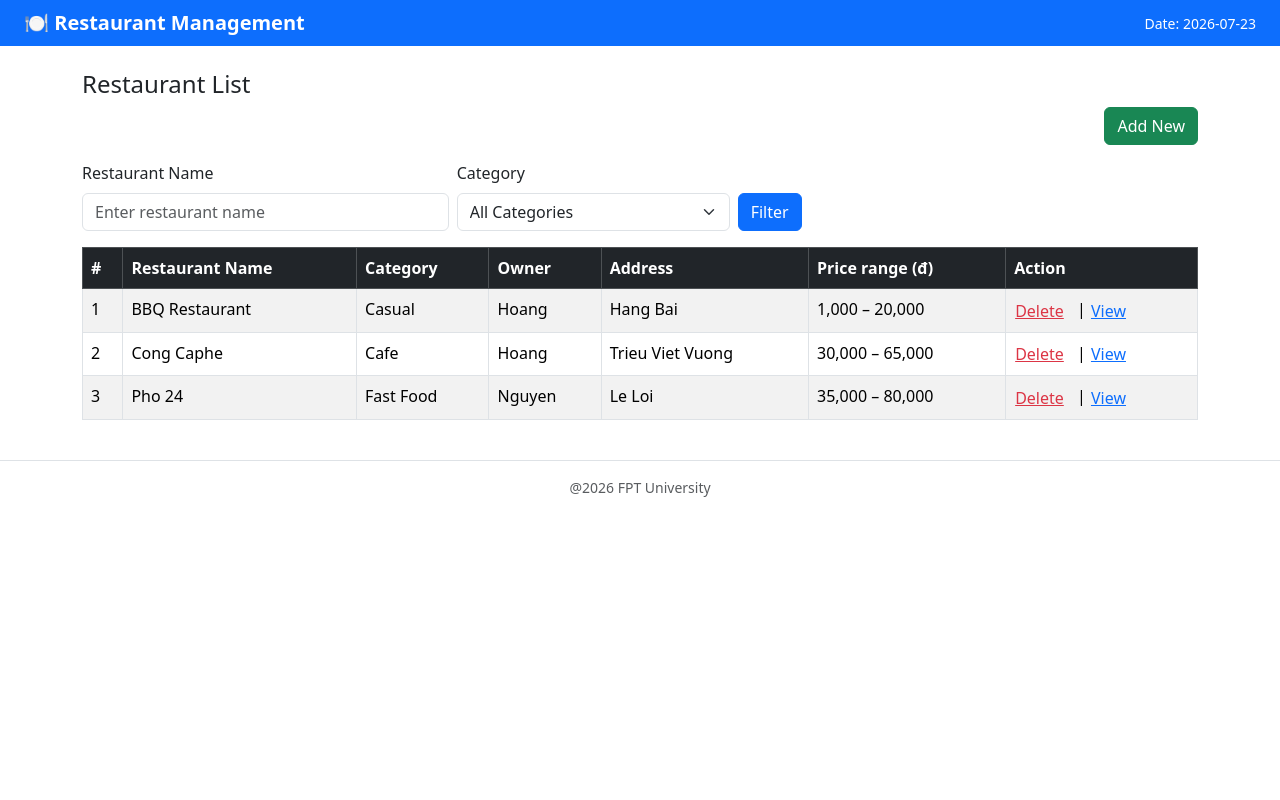
Scenario: RestaurantListPage — delete › click Yes trong modal gọi deleteRestaurant và hiện MS08
Click the button "Delete" in the row of "BBQ Restaurant". click: (1040, 310)
box: [1014, 298, 1065, 324]
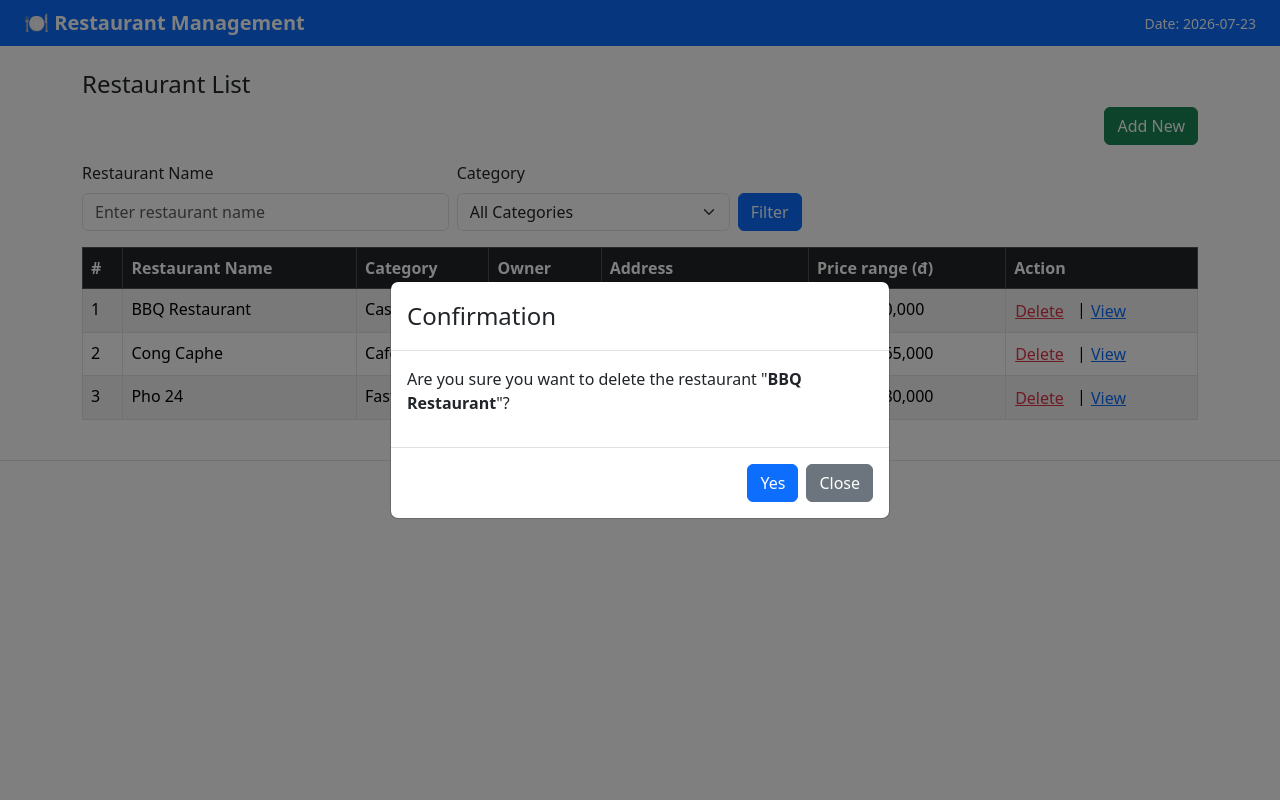
Expected: the button "Yes" is shown
Click the button "Yes". click: (773, 483)
box: [747, 464, 798, 502]
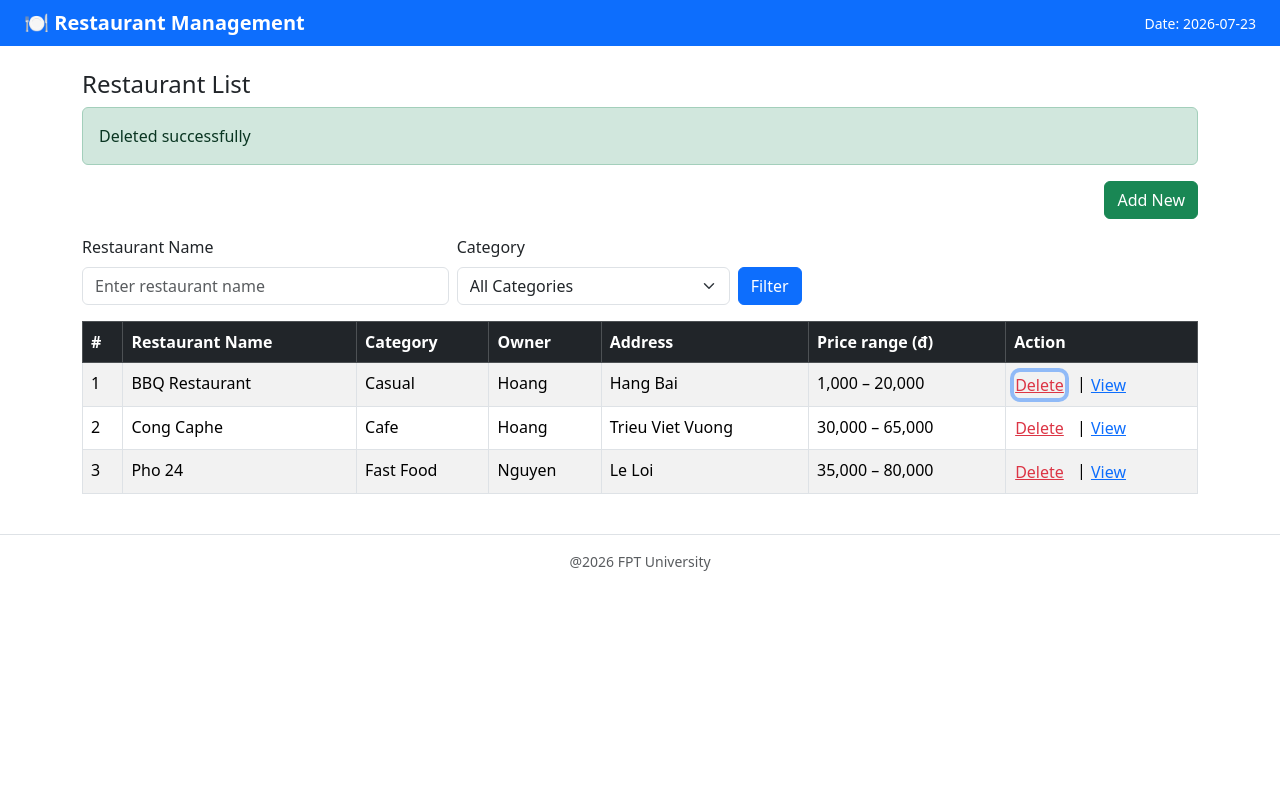
Expected: the text "Deleted successfully" is shown, [82, 107, 1198, 165]
